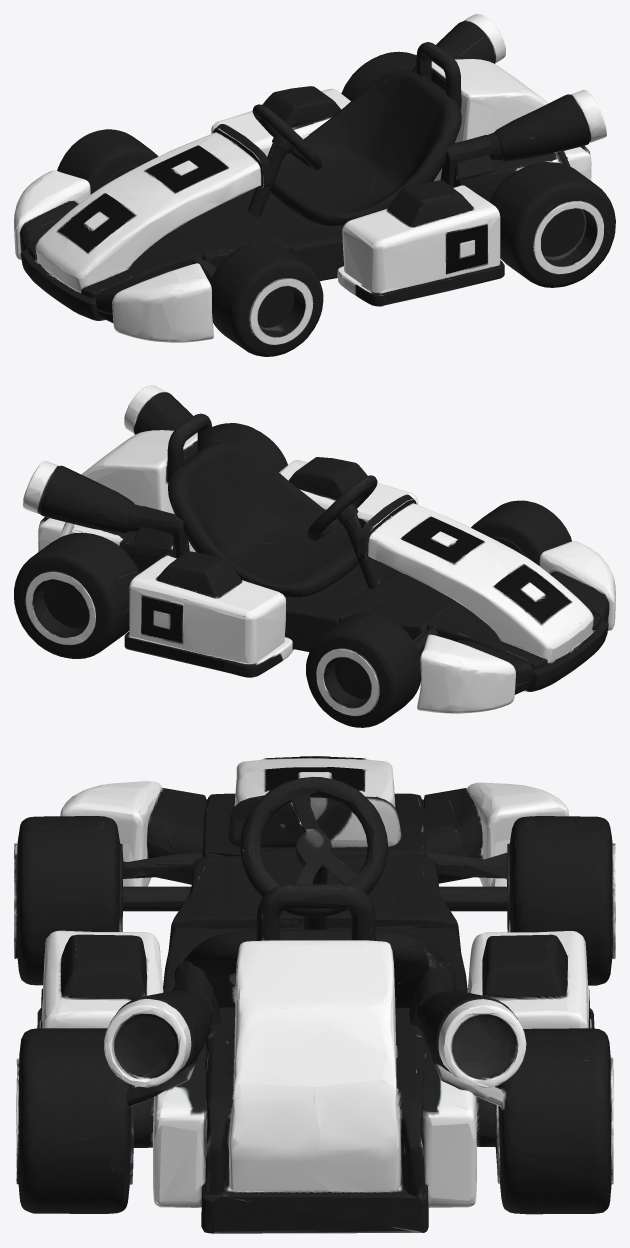
The model's file is roblox-raw.glb.
3 renders of one model, top to bottom at view 1: azimuth 30°, elevation 25°; view 2: azimuth 150°, elevation 25°; view 3: azimuth 270°, elevation 25°, orthographic. The views are drawn at different scales.
Visible parts, largest first — view 1: Mesh_0; view 2: Mesh_0; view 3: Mesh_0.
Part boxes in pixels (x1,y1,x2,y2): Mesh_0: (14,14,615,356); Mesh_0: (14,385,615,727); Mesh_0: (14,756,615,1233).
Bounding box in the file's own units: 1.9 × 0.6428 × 1.21.
Materials: 1 (1 with a texture image).
